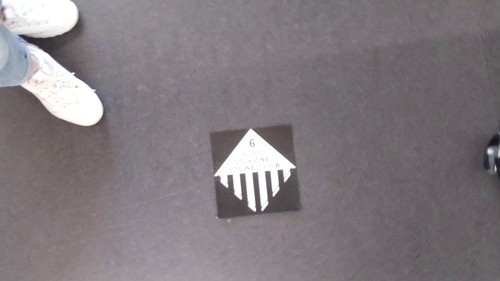misgoods: (210, 133, 300, 216)
